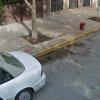Car: (2, 39, 53, 100)
